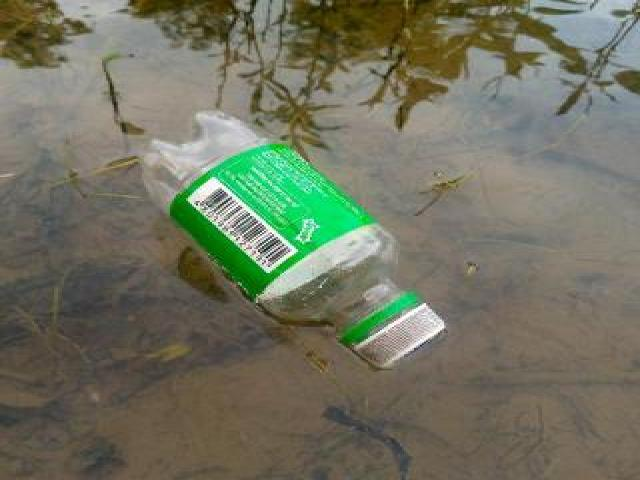Bottle: (132, 104, 458, 377)
